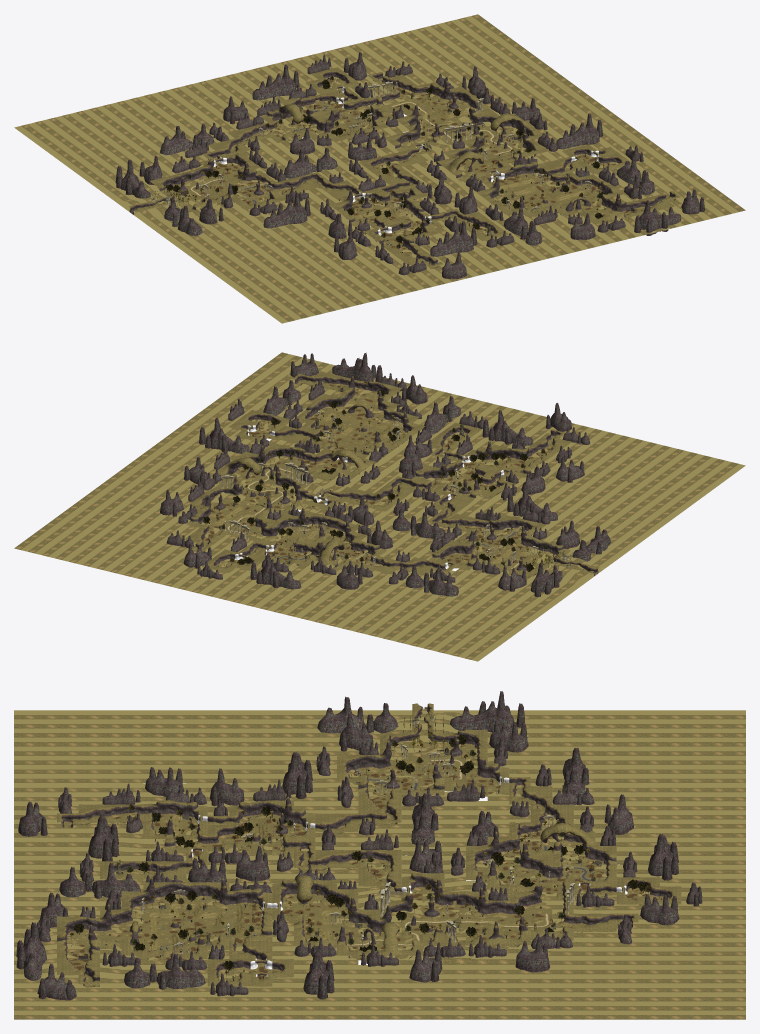
File: map_F01_03.glb
3 views of the same model, one above another, from view 1: azimuth 30°, elevation 25°; view 2: azimuth 150°, elevation 25°; view 3: azimuth 270°, elevation 25° (orthographic). The views are drawn at different scales.
Parts seen in each view (by area): view 1: default_ground, FM_F01_mount01_ATA (×6), FM_F01_mount01_ASA (×5); view 2: default_ground, FM_F01_mount01_ATA (×6), FM_F01_mount01_ASA (×5); view 3: default_ground, FM_F01_mount01_ATA (×6), FM_F01_mount01_ASA (×5), FM_F01_mount02_ALA (×8), FM_F01_mount01_AVA (×7), FM_F01_mount01_AUA (×6), FM_F01_mount02_AKA (×3), FM_F01_mount01_AWA (×3).
Boxes of the visible parts, box(x1,y1,x2,y2) form: default_ground: box(14, 14, 745, 323); FM_F01_mount01_ATA (×6): box(115, 64, 680, 256); FM_F01_mount01_ASA (×5): box(160, 124, 655, 245); default_ground: box(14, 352, 745, 661); FM_F01_mount01_ATA (×6): box(199, 352, 562, 597); FM_F01_mount01_ASA (×5): box(263, 380, 610, 596); default_ground: box(14, 710, 745, 1019); FM_F01_mount01_ATA (×6): box(16, 691, 678, 999); FM_F01_mount01_ASA (×5): box(59, 696, 589, 989); FM_F01_mount02_ALA (×8): box(57, 794, 616, 980); FM_F01_mount01_AVA (×7): box(37, 721, 679, 1000); FM_F01_mount01_AUA (×6): box(18, 714, 633, 972); FM_F01_mount02_AKA (×3): box(229, 785, 552, 964); FM_F01_mount01_AWA (×3): box(294, 823, 595, 959).
Size of the model in its own units: 1224 by 82.91 by 1224.
Materials: 353 (352 with a texture image).
